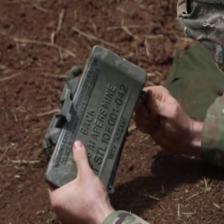MOH-50: (46, 40, 143, 190)
